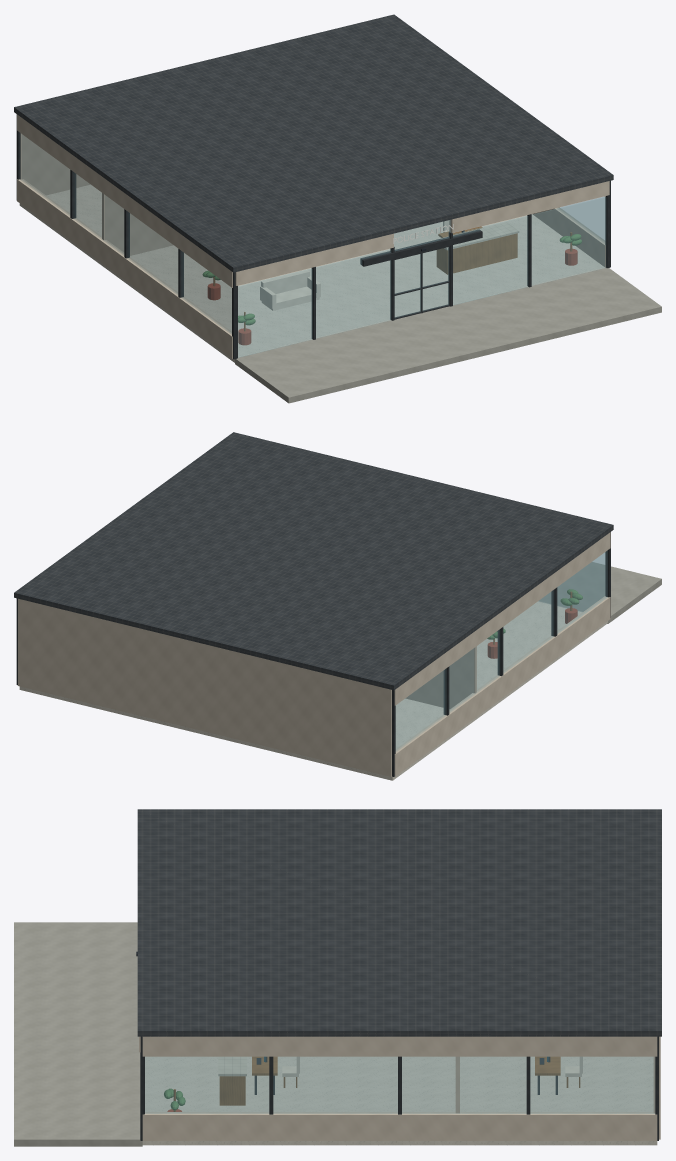
The model's file is 29_Police_Station_LOD1.glb.
3 views of the same model, one above another, from view 1: azimuth 30°, elevation 25°; view 2: azimuth 150°, elevation 25°; view 3: azimuth 270°, elevation 25° (orthographic). The views are drawn at different scales.
Visible parts, largest first — view 1: Roof, Floor, Approach, Front glazing, Front glazing.001, Side glazing, Side base wall, Side upper wall, Front band.001, Front band, Rear wall, Internal partition (+10 smaller); view 2: Roof, Rear wall, Side glazing, Floor, Side base wall, Side upper wall, Approach, Internal partition, Front glazing; view 3: Roof, Side glazing.001, Approach, Floor, Side base wall.001, Side upper wall.001, Service counter, Stone countertop.
Boxes of the visible parts, x1,y1,x2,y2 form: Roof: (14, 14, 613, 272); Floor: (19, 184, 605, 362); Approach: (235, 268, 661, 403); Front glazing: (238, 249, 391, 357); Front glazing.001: (453, 197, 606, 304); Side glazing: (20, 133, 231, 333); Side base wall: (17, 179, 232, 358); Side upper wall: (17, 114, 232, 287); Front band.001: (449, 181, 609, 233); Front band: (235, 233, 393, 285); Rear wall: (20, 133, 90, 195); Internal partition: (102, 193, 172, 255); Roof: (14, 432, 613, 690); Rear wall: (18, 598, 391, 776); Side glazing: (396, 551, 607, 751); Floor: (19, 601, 607, 780); Side base wall: (394, 596, 610, 776); Side upper wall: (394, 532, 610, 705); Approach: (539, 562, 661, 623); Internal partition: (405, 646, 476, 708); Front glazing: (539, 553, 604, 611); Roof: (137, 809, 661, 1036); Side glazing.001: (145, 1057, 654, 1113); Approach: (14, 922, 142, 1146); Floor: (142, 1056, 657, 1145); Side base wall.001: (142, 1112, 657, 1140); Side upper wall.001: (142, 1036, 657, 1056); Service counter: (219, 1076, 245, 1105); Stone countertop: (218, 1056, 246, 1076).
Size of the model in its own units: 16.3 by 4.04 by 20.15.
Materials: 15 (9 with a texture image).
